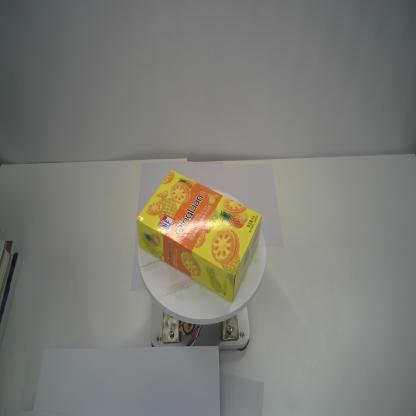Dessert: (136, 169, 262, 303)
